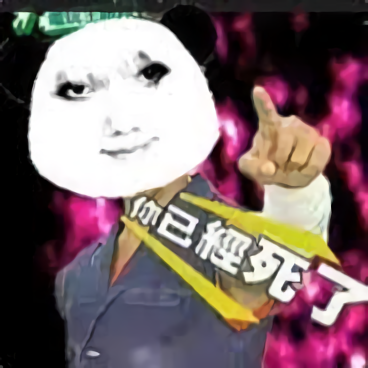dragon: (51, 54, 179, 161)
